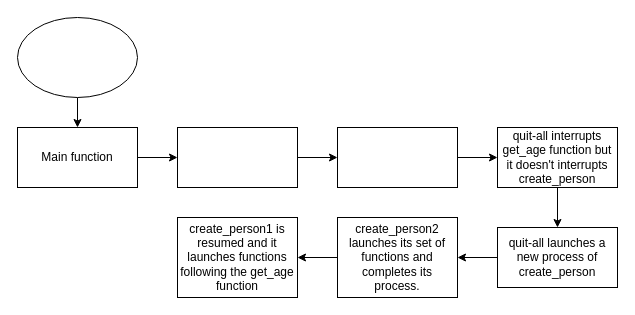
Image size: 635x315. Some labels were removed from this diagram. The shapes that lost their labels are listed below. From the top down, each one's box as (x1, y1, x2, y2) in pixels, then its label:
(16, 16, 138, 98): Start
(176, 126, 298, 188): create_person
(336, 126, 458, 188): get_age
